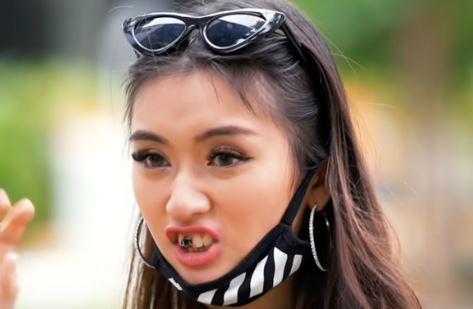without_mask: (137, 105, 247, 284)
